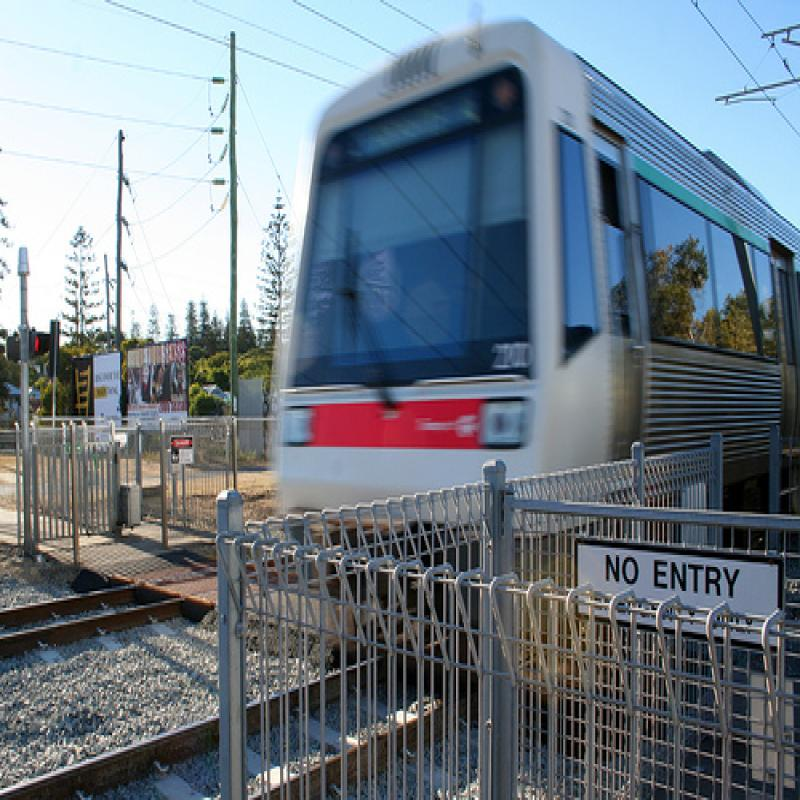train: (271, 20, 800, 633)
